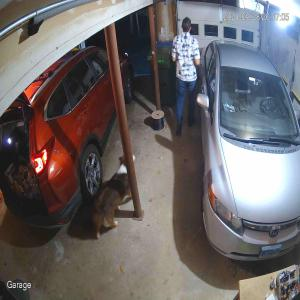garbage bin: (147, 39, 177, 106)
honda civic: (196, 40, 300, 261)
honda crv: (0, 45, 135, 230)
person: (172, 16, 201, 136)
